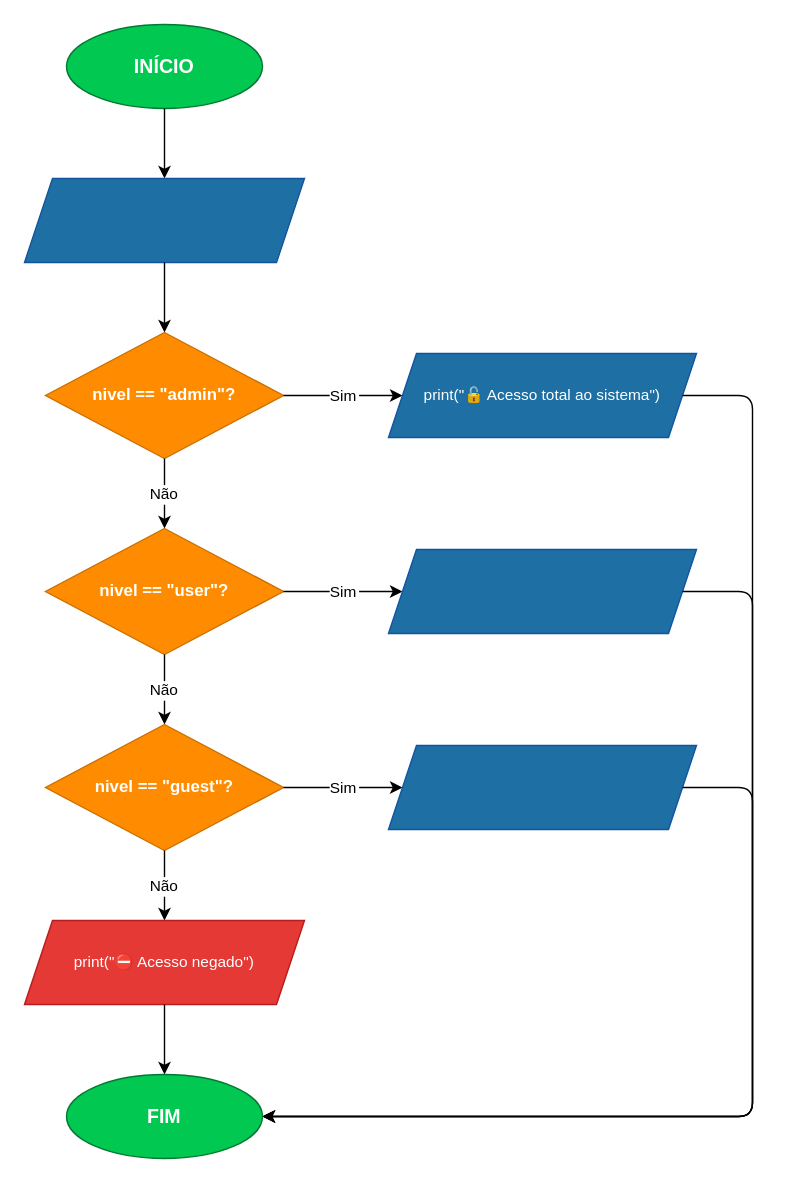
This 788x1183 diagram has some shape labels left out. The shapes that lost their labels are listed below. From the top down, each one's centre as x and y in pixels, then its label:
(x=163, y=219): nivel = input("Nível de acesso: ")
(x=541, y=591): print("🔒 Acesso limitado")
(x=541, y=787): print("👁 Só leitura")
